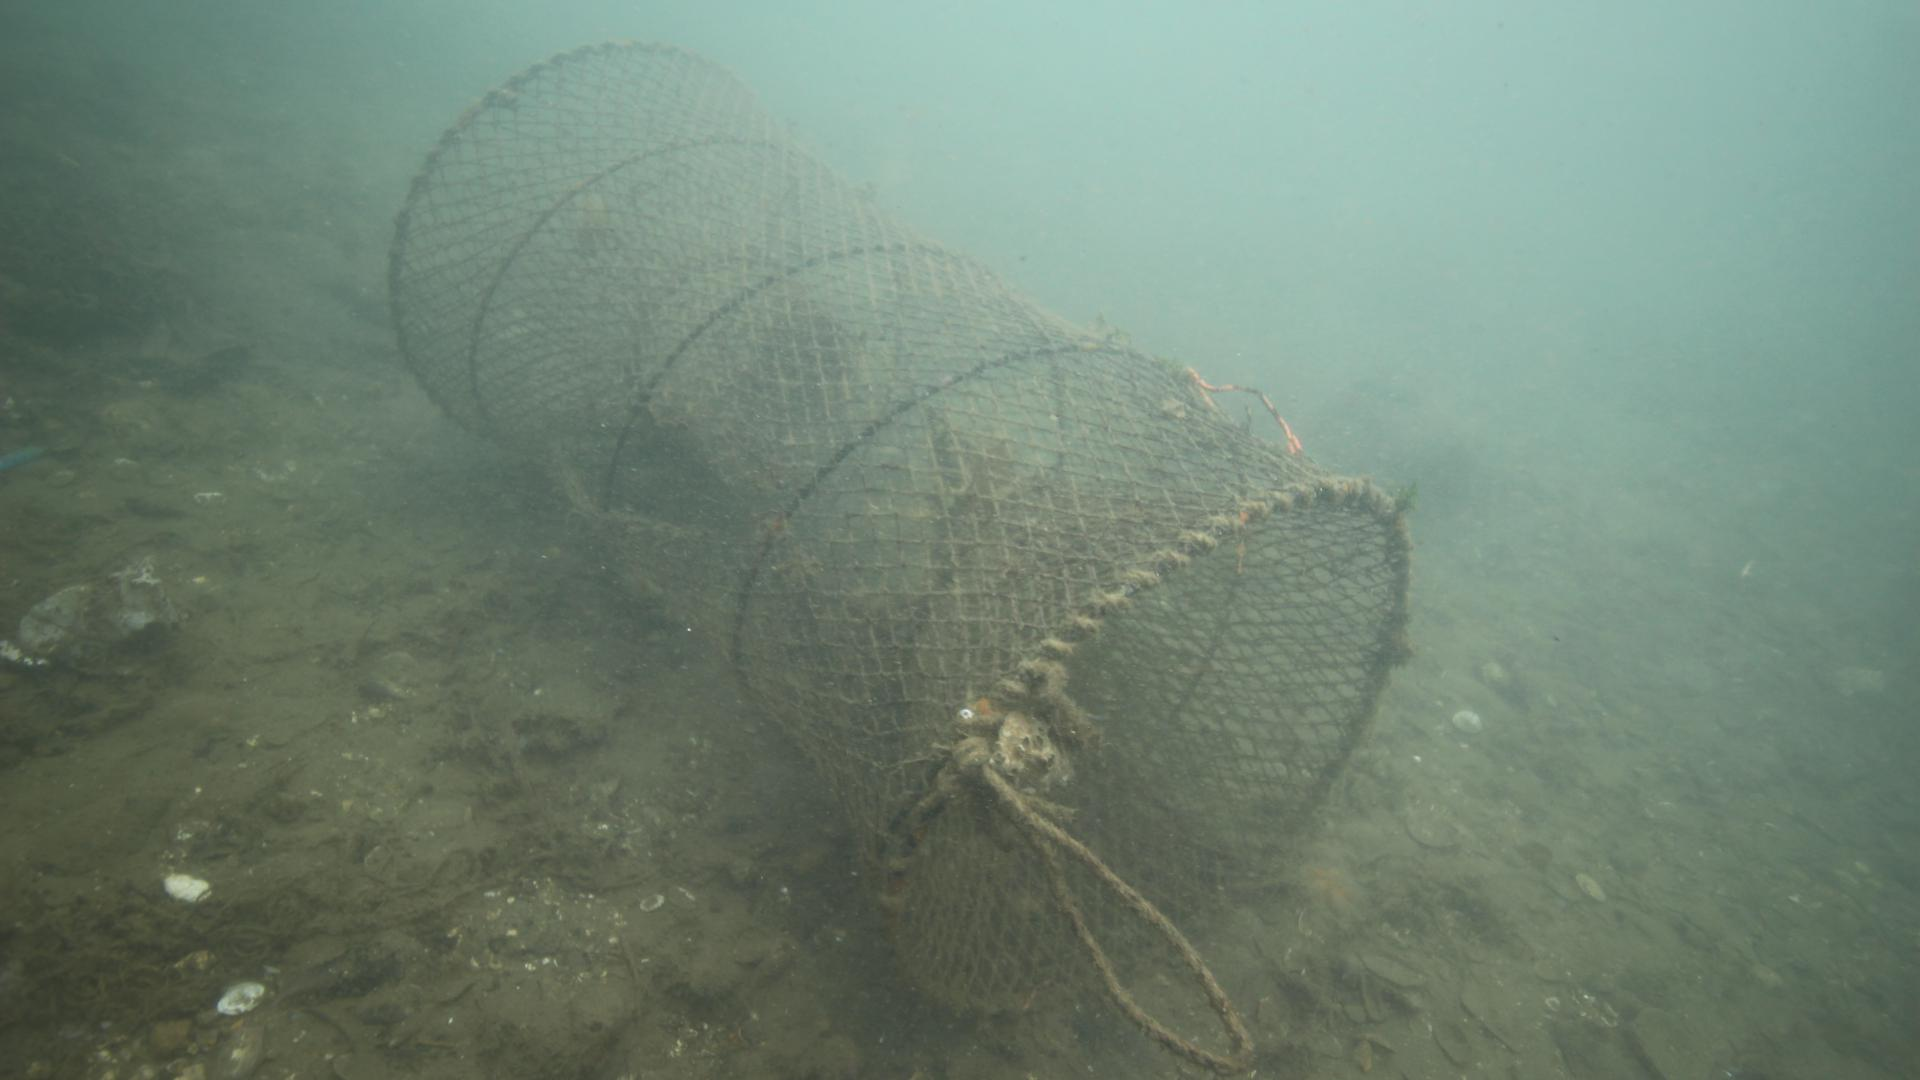bundle of ropes: (957, 749, 1255, 1068)
spring fish trap: (385, 40, 1416, 1034)
